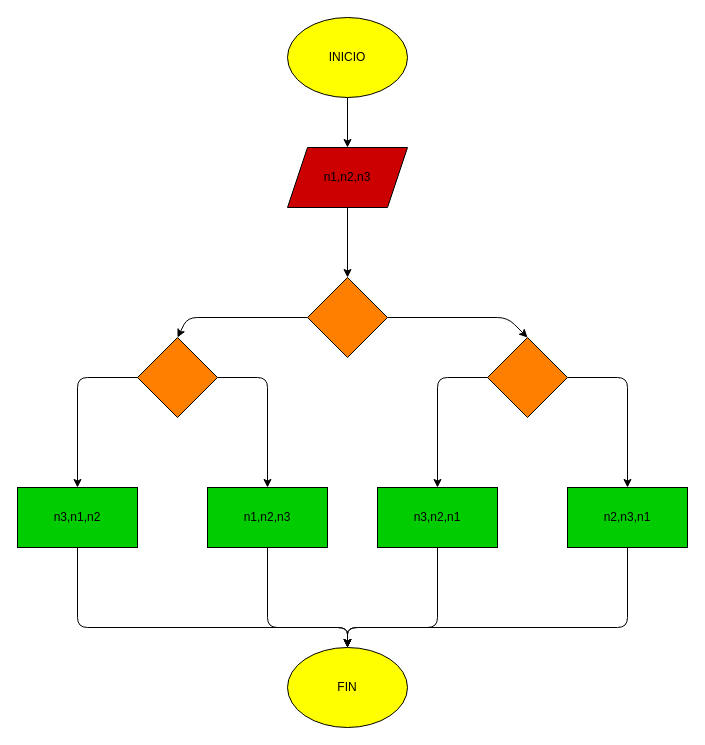
Some shapes in this 705 by 745 pixel diagram are drawn without their labels. Here are the shapes that lost their labels. From the top down, the centre of each, then its label:
(347,317): n1>n2
(177,377): n1>n3
(527,377): n2>3
